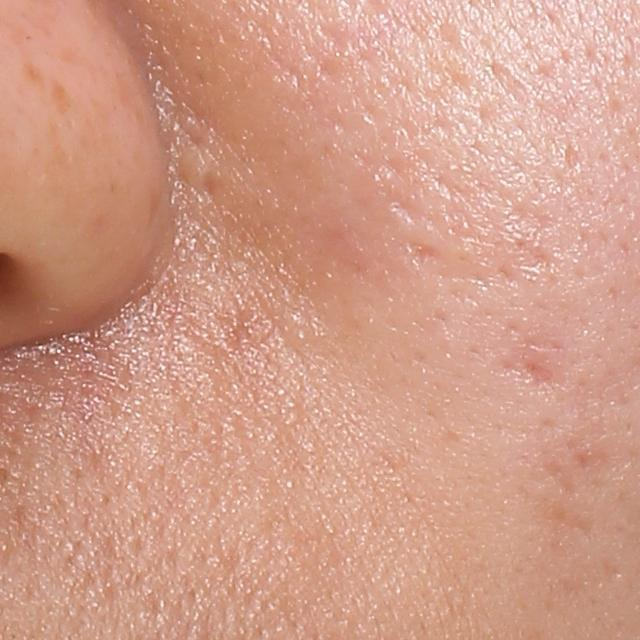atrophic_scar: (515, 357, 562, 395)
